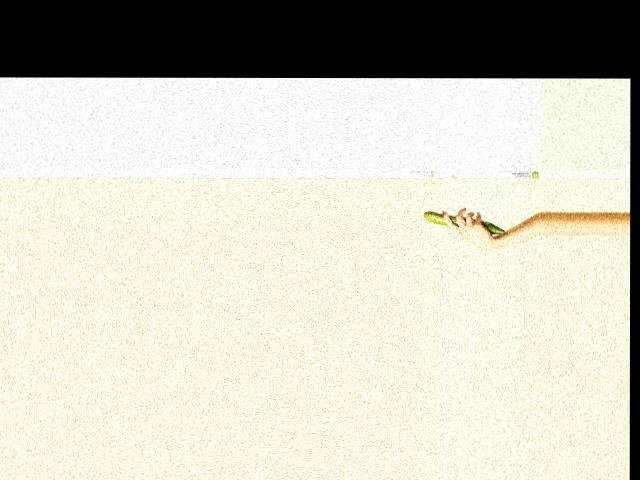cucumber: (423, 210, 505, 233)
